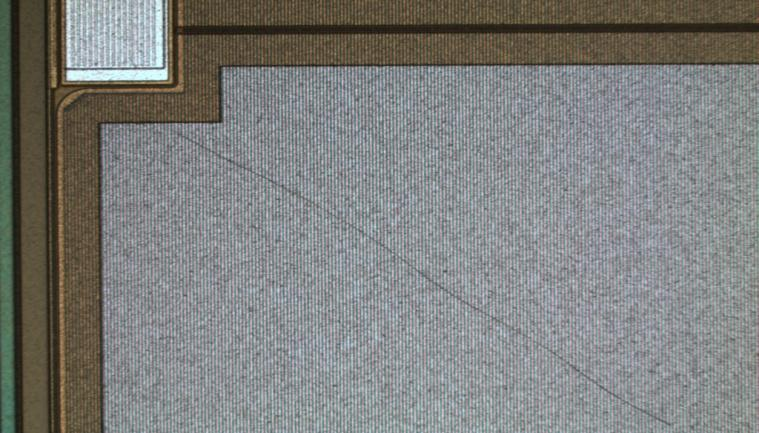SCRATCH: (119, 104, 683, 431)
